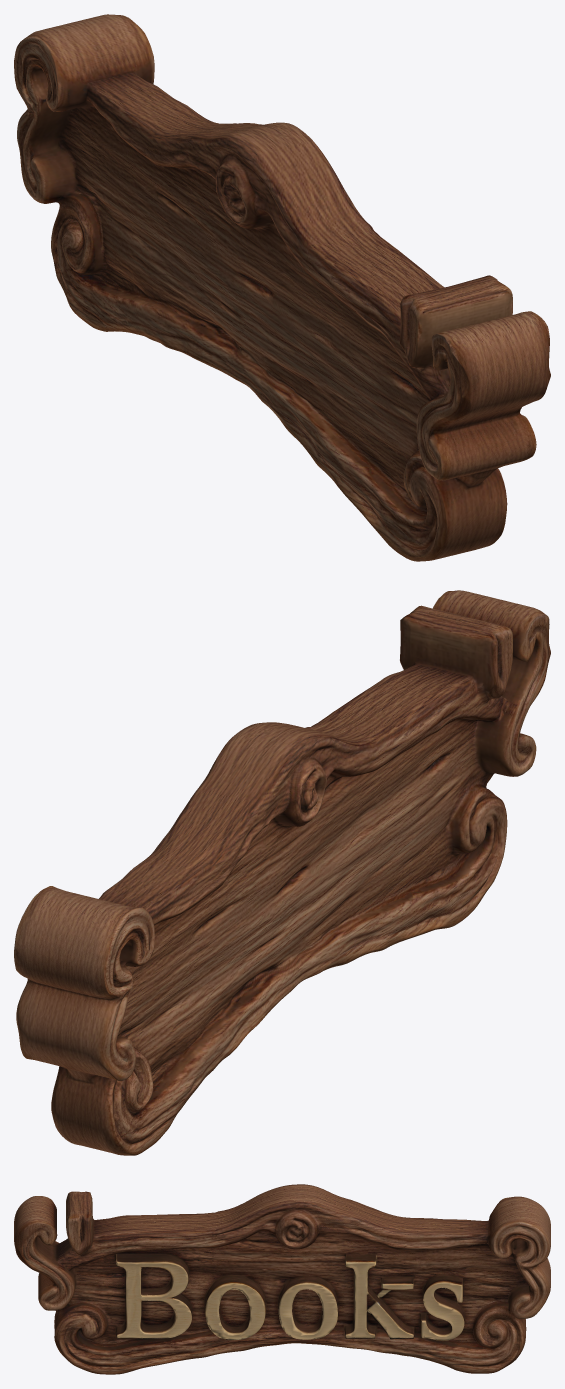
The model's file is tripo_convert_8992f9b8-4f9c-4683-8d19-b0ccb089dabd.fbx.
3 renders of one model, top to bottom at view 1: azimuth 30°, elevation 25°; view 2: azimuth 150°, elevation 25°; view 3: azimuth 270°, elevation 25°, orthographic. The views are drawn at different scales.
Parts seen in each view (by area): view 1: tripo_node_8992f9b8; view 2: tripo_node_8992f9b8; view 3: tripo_node_8992f9b8.
Boxes of the visible parts, x1,y1,x2,y2 form: tripo_node_8992f9b8: [14, 14, 550, 561]; tripo_node_8992f9b8: [14, 590, 550, 1155]; tripo_node_8992f9b8: [14, 1184, 550, 1374].
Size of the model in its own units: 0.1214 by 0.3519 by 0.9803.
